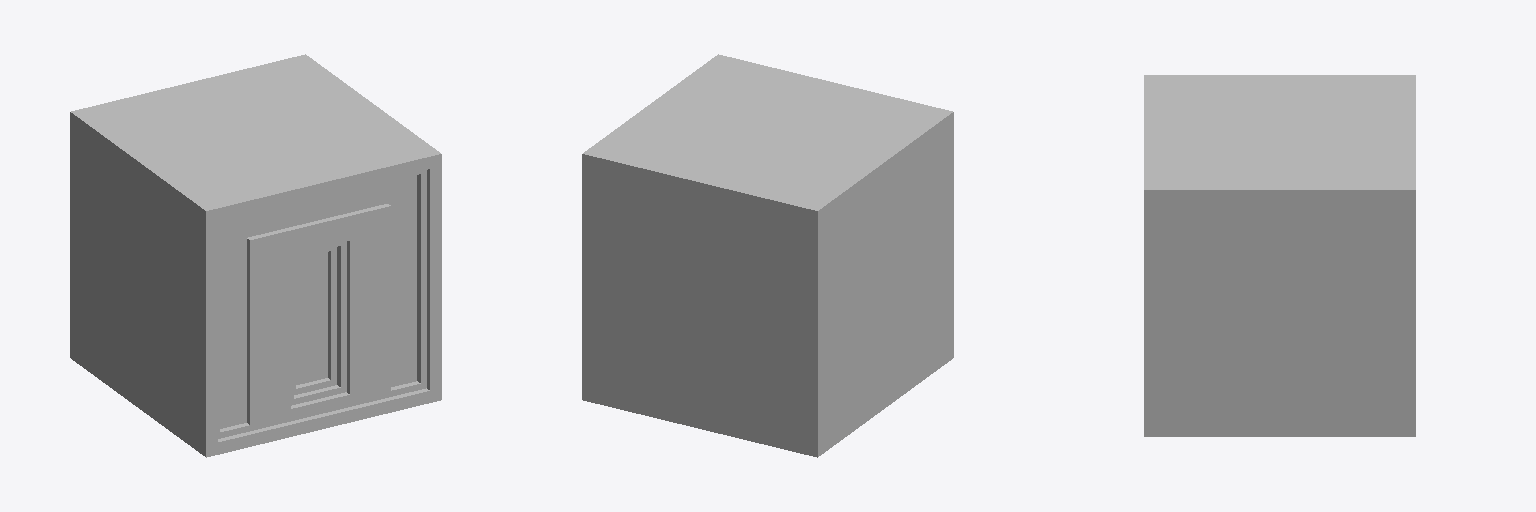
Rendered from player4.obj.
3 renders of one model, left to right at view 1: azimuth 30°, elevation 25°; view 2: azimuth 150°, elevation 25°; view 3: azimuth 270°, elevation 25°, orthographic.
Visible parts, largest first — view 1: object 1; view 2: object 1; view 3: object 1.
Part boxes in pixels (x1,y1,x2,y2): object 1: (70,54,441,457); object 1: (582,54,953,457); object 1: (1144,75,1415,436).
Size of the model in its own units: 4 by 4 by 4.